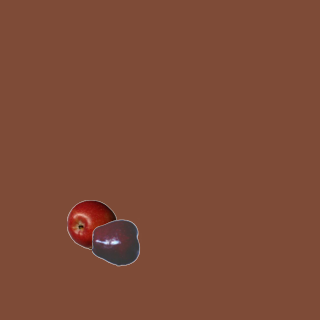Apple Braeburn: (66, 199, 116, 249)
Apple Red Delicious: (91, 217, 141, 267)
